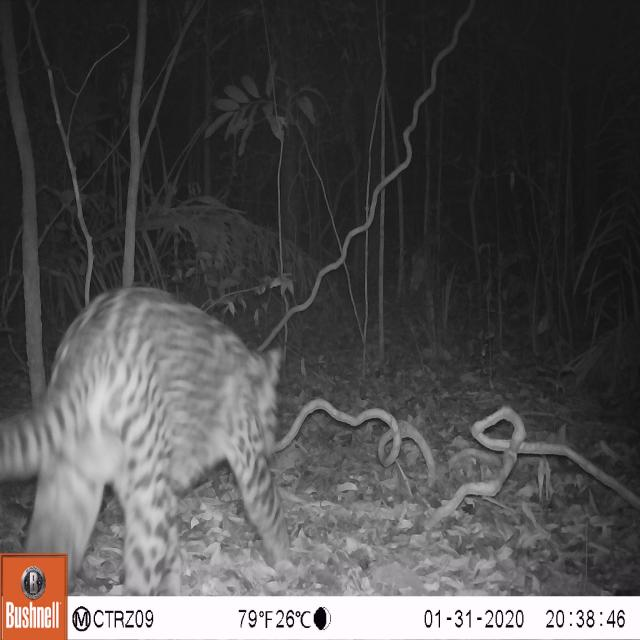Ocelote: (3, 286, 305, 580)
